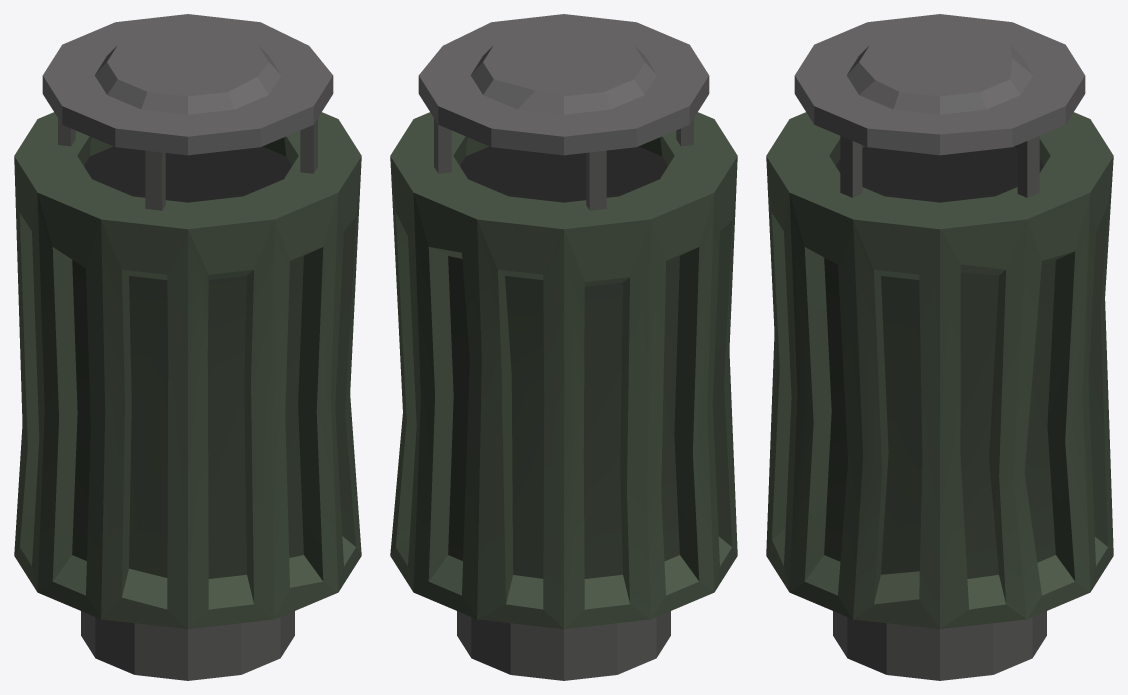
The model's file is Trashbin.fbx.
3 renders of one model, left to right at view 1: azimuth 30°, elevation 25°; view 2: azimuth 150°, elevation 25°; view 3: azimuth 270°, elevation 25°, orthographic.
Visible parts, largest first — view 1: Trashbin; view 2: Trashbin; view 3: Trashbin.
Part boxes in pixels (x1,y1,x2,y2): Trashbin: [14, 14, 361, 680]; Trashbin: [390, 14, 737, 680]; Trashbin: [766, 14, 1113, 680].
Size of the model in its own units: 52.61 by 95.83 by 52.61.
1 material, 1 textured.
